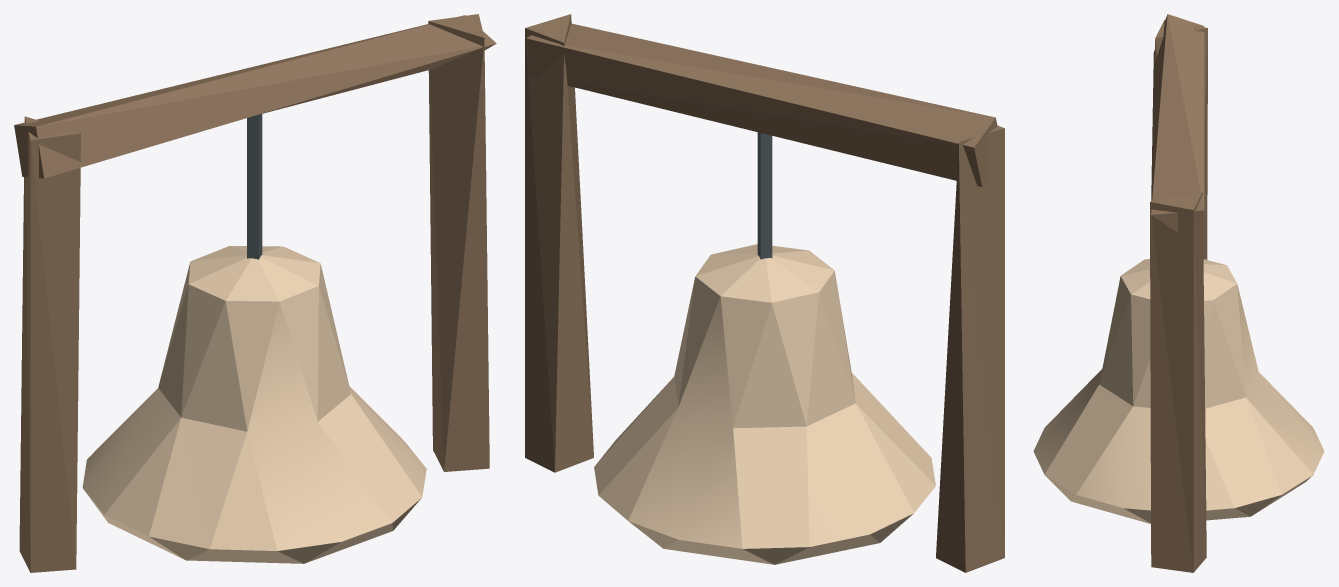
Rendered from lighthouse.fog_bell.lod1.glb.
The picture shows the model from 3 angles, left to right: view 1: azimuth 30°, elevation 25°; view 2: azimuth 150°, elevation 25°; view 3: azimuth 270°, elevation 25°; orthographic projection. The views are drawn at different scales.
Visible parts, largest first — view 1: Bell, Support.001, Support, Hanger, Chain; view 2: Bell, Hanger, Support.001, Support, Chain; view 3: Bell, Support.001, Hanger, Support.
Part boxes in pixels (box(x1,y1,x2,y2)): Bell: box(82, 246, 426, 563); Support.001: box(428, 14, 489, 471); Support: box(19, 116, 80, 572); Hanger: box(14, 15, 496, 178); Chain: box(247, 113, 262, 259); Bell: box(594, 244, 935, 564); Hanger: box(526, 23, 997, 186); Support.001: box(525, 14, 593, 472); Support: box(936, 125, 1004, 572); Chain: box(757, 132, 772, 259); Bell: box(1033, 259, 1324, 523); Support.001: box(1150, 192, 1206, 572); Hanger: box(1151, 14, 1204, 244); Support: box(1155, 19, 1207, 259).
Size of the model in its own units: 1.24 by 1.13 by 0.8.
